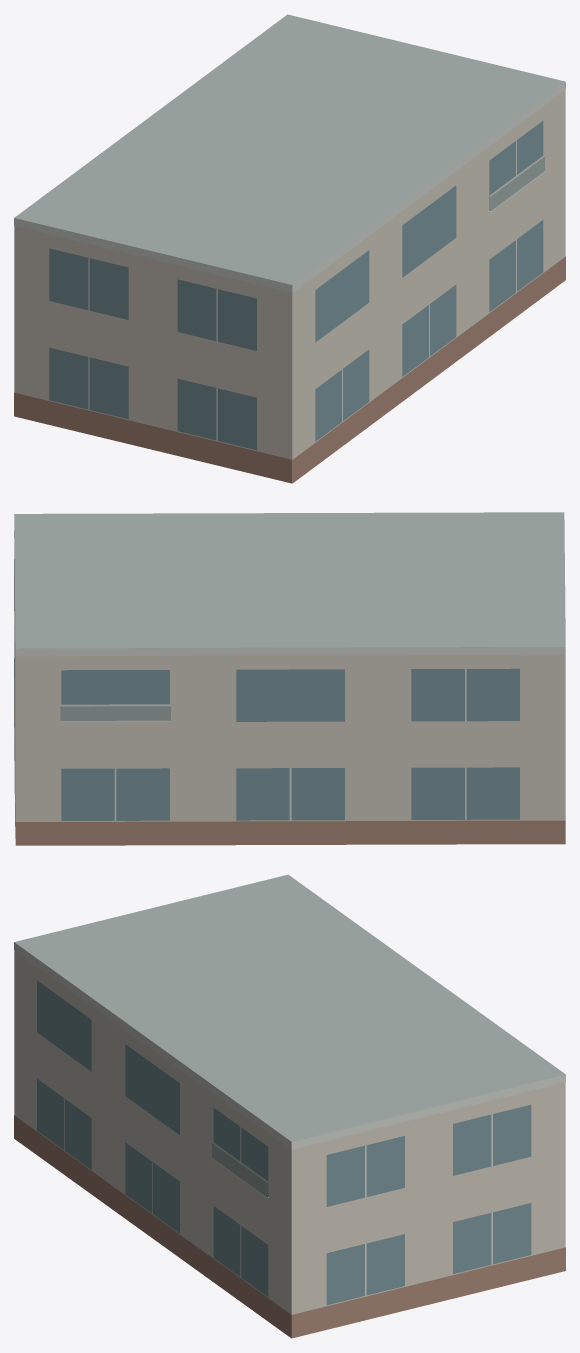
Rendered from survey-upis-32805177.glb.
3 views of the same model, one above another, from view 1: azimuth 30°, elevation 25°; view 2: azimuth 150°, elevation 25°; view 3: azimuth 270°, elevation 25° (orthographic).
Parts seen in each view (by area): view 1: survey-upis-32805177.tmp; view 2: survey-upis-32805177.tmp; view 3: survey-upis-32805177.tmp.
Part boxes in pixels (<box>): survey-upis-32805177.tmp: <box>14,14,565,483</box>; survey-upis-32805177.tmp: <box>14,512,565,845</box>; survey-upis-32805177.tmp: <box>14,874,565,1338</box>.
Size of the model in its own units: 17.81 by 6.1 by 15.53.
